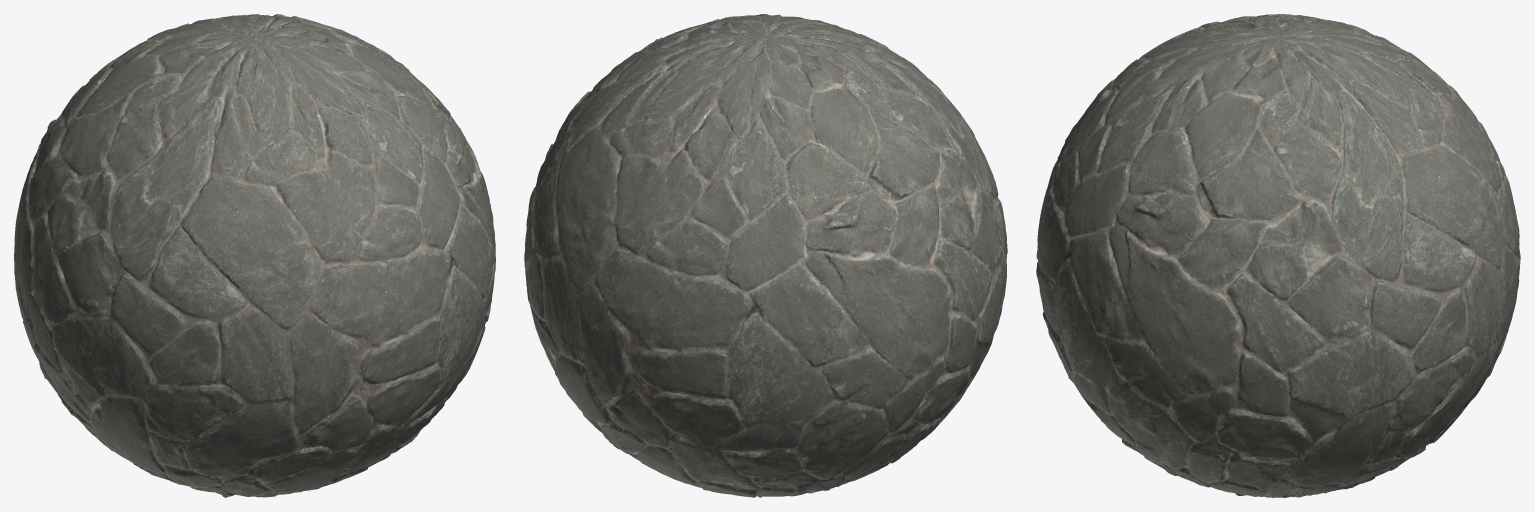
File: stone_tiles_02_1k.gltf
The picture shows the model from 3 angles, left to right: view 1: azimuth 30°, elevation 25°; view 2: azimuth 150°, elevation 25°; view 3: azimuth 270°, elevation 25°; orthographic projection.
Visible parts, largest first — view 1: sphere_gltf; view 2: sphere_gltf; view 3: sphere_gltf.
Part boxes in pixels (<box>): sphere_gltf: <box>14,14,495,497</box>; sphere_gltf: <box>524,14,1007,497</box>; sphere_gltf: <box>1036,14,1520,497</box>.
Size of the model in its own units: 2.01 by 2.01 by 2.01.
Materials: 1 (1 with a texture image).
